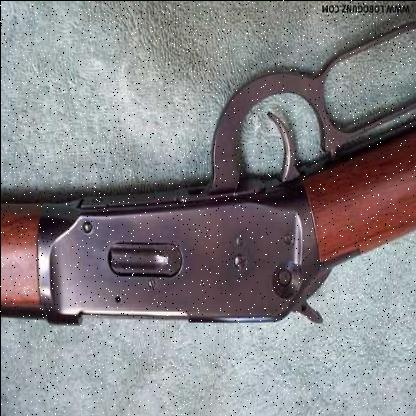rifle: (27, 12, 416, 371)
